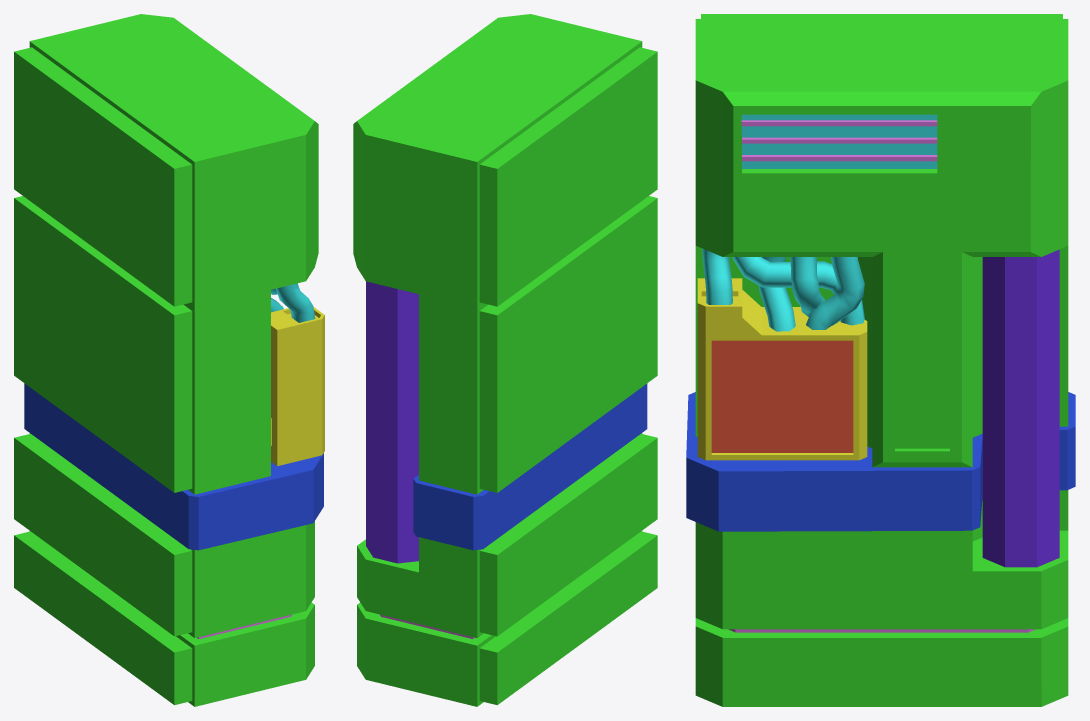
The model's file is Machine_01.fbx.
3 renders of one model, left to right at view 1: azimuth 30°, elevation 25°; view 2: azimuth 150°, elevation 25°; view 3: azimuth 270°, elevation 25°, orthographic. The views are drawn at different scales.
Visible parts, largest first — view 1: Machine_01; view 2: Machine_01; view 3: Machine_01.
Part boxes in pixels (box(x1,y1,x2,y2)): Machine_01: box(14, 14, 324, 706); Machine_01: box(353, 14, 657, 706); Machine_01: box(686, 14, 1075, 706).
Size of the model in its own units: 47.41 by 156 by 89.38.
